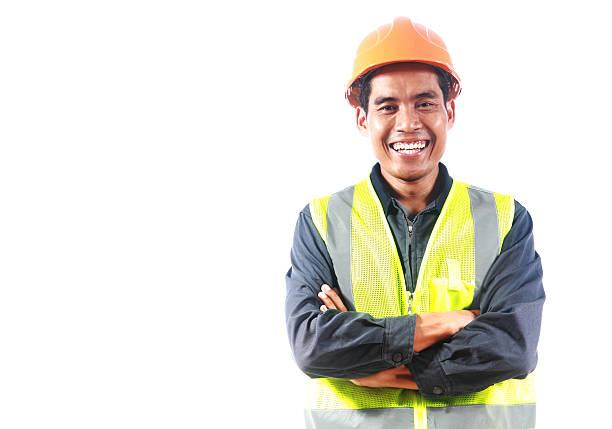hat: (322, 3, 493, 120)
vest: (287, 148, 544, 429)
